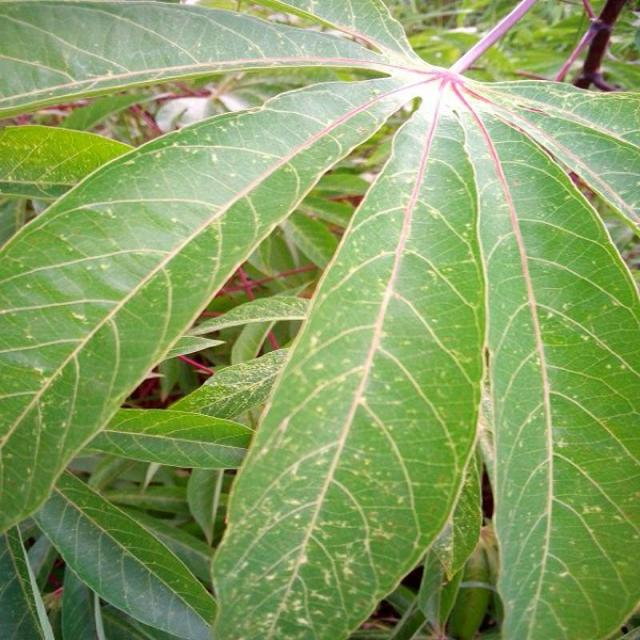cassava leaf: (2, 0, 640, 638), (1, 72, 420, 538), (210, 92, 488, 638)
